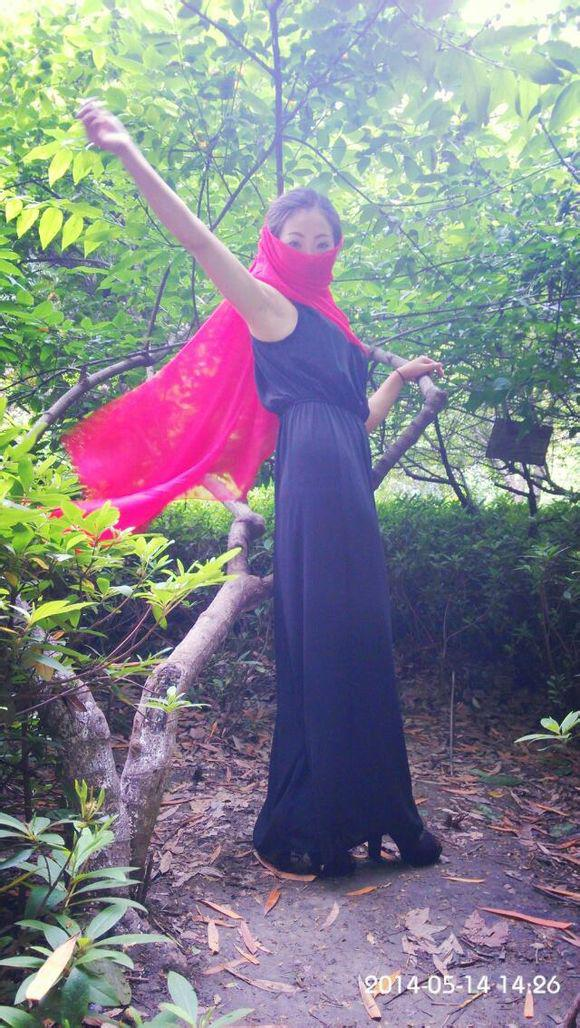OK: (270, 223, 340, 293)
